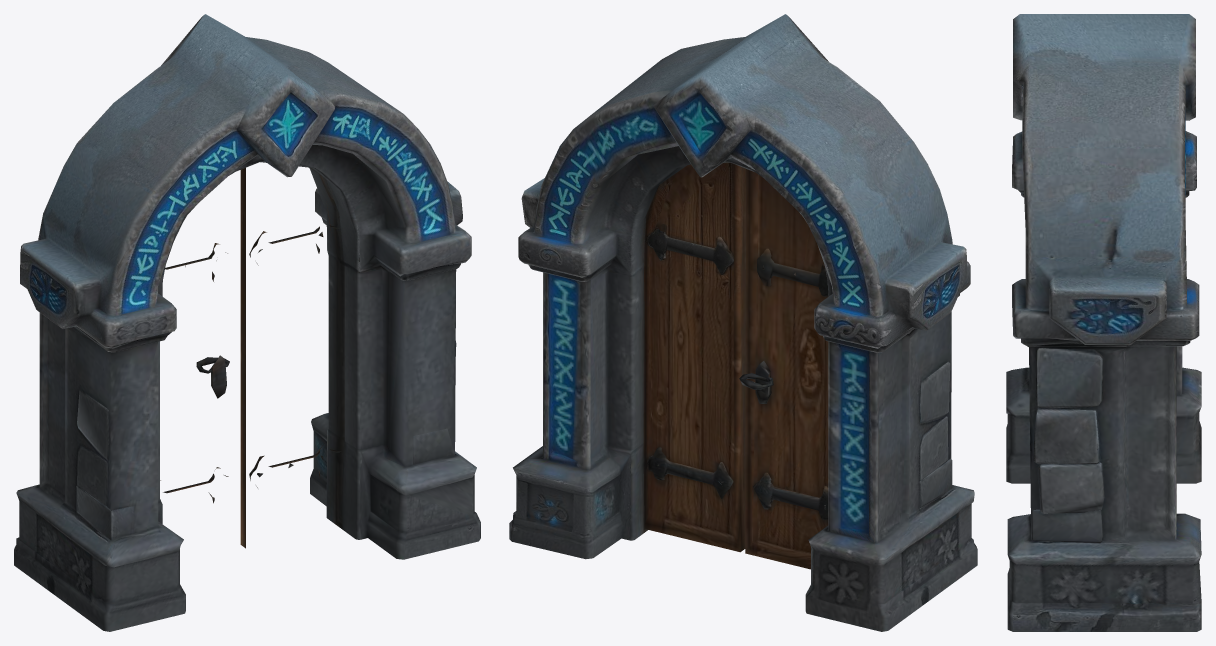
The model's file is karak_hold.glb.
The picture shows the model from 3 angles, left to right: view 1: azimuth 30°, elevation 25°; view 2: azimuth 150°, elevation 25°; view 3: azimuth 270°, elevation 25°; orthographic projection. The views are drawn at different scales.
Bounding box in the file's own units: 1.7 × 2.1 × 0.711.
1 material, 1 textured.
